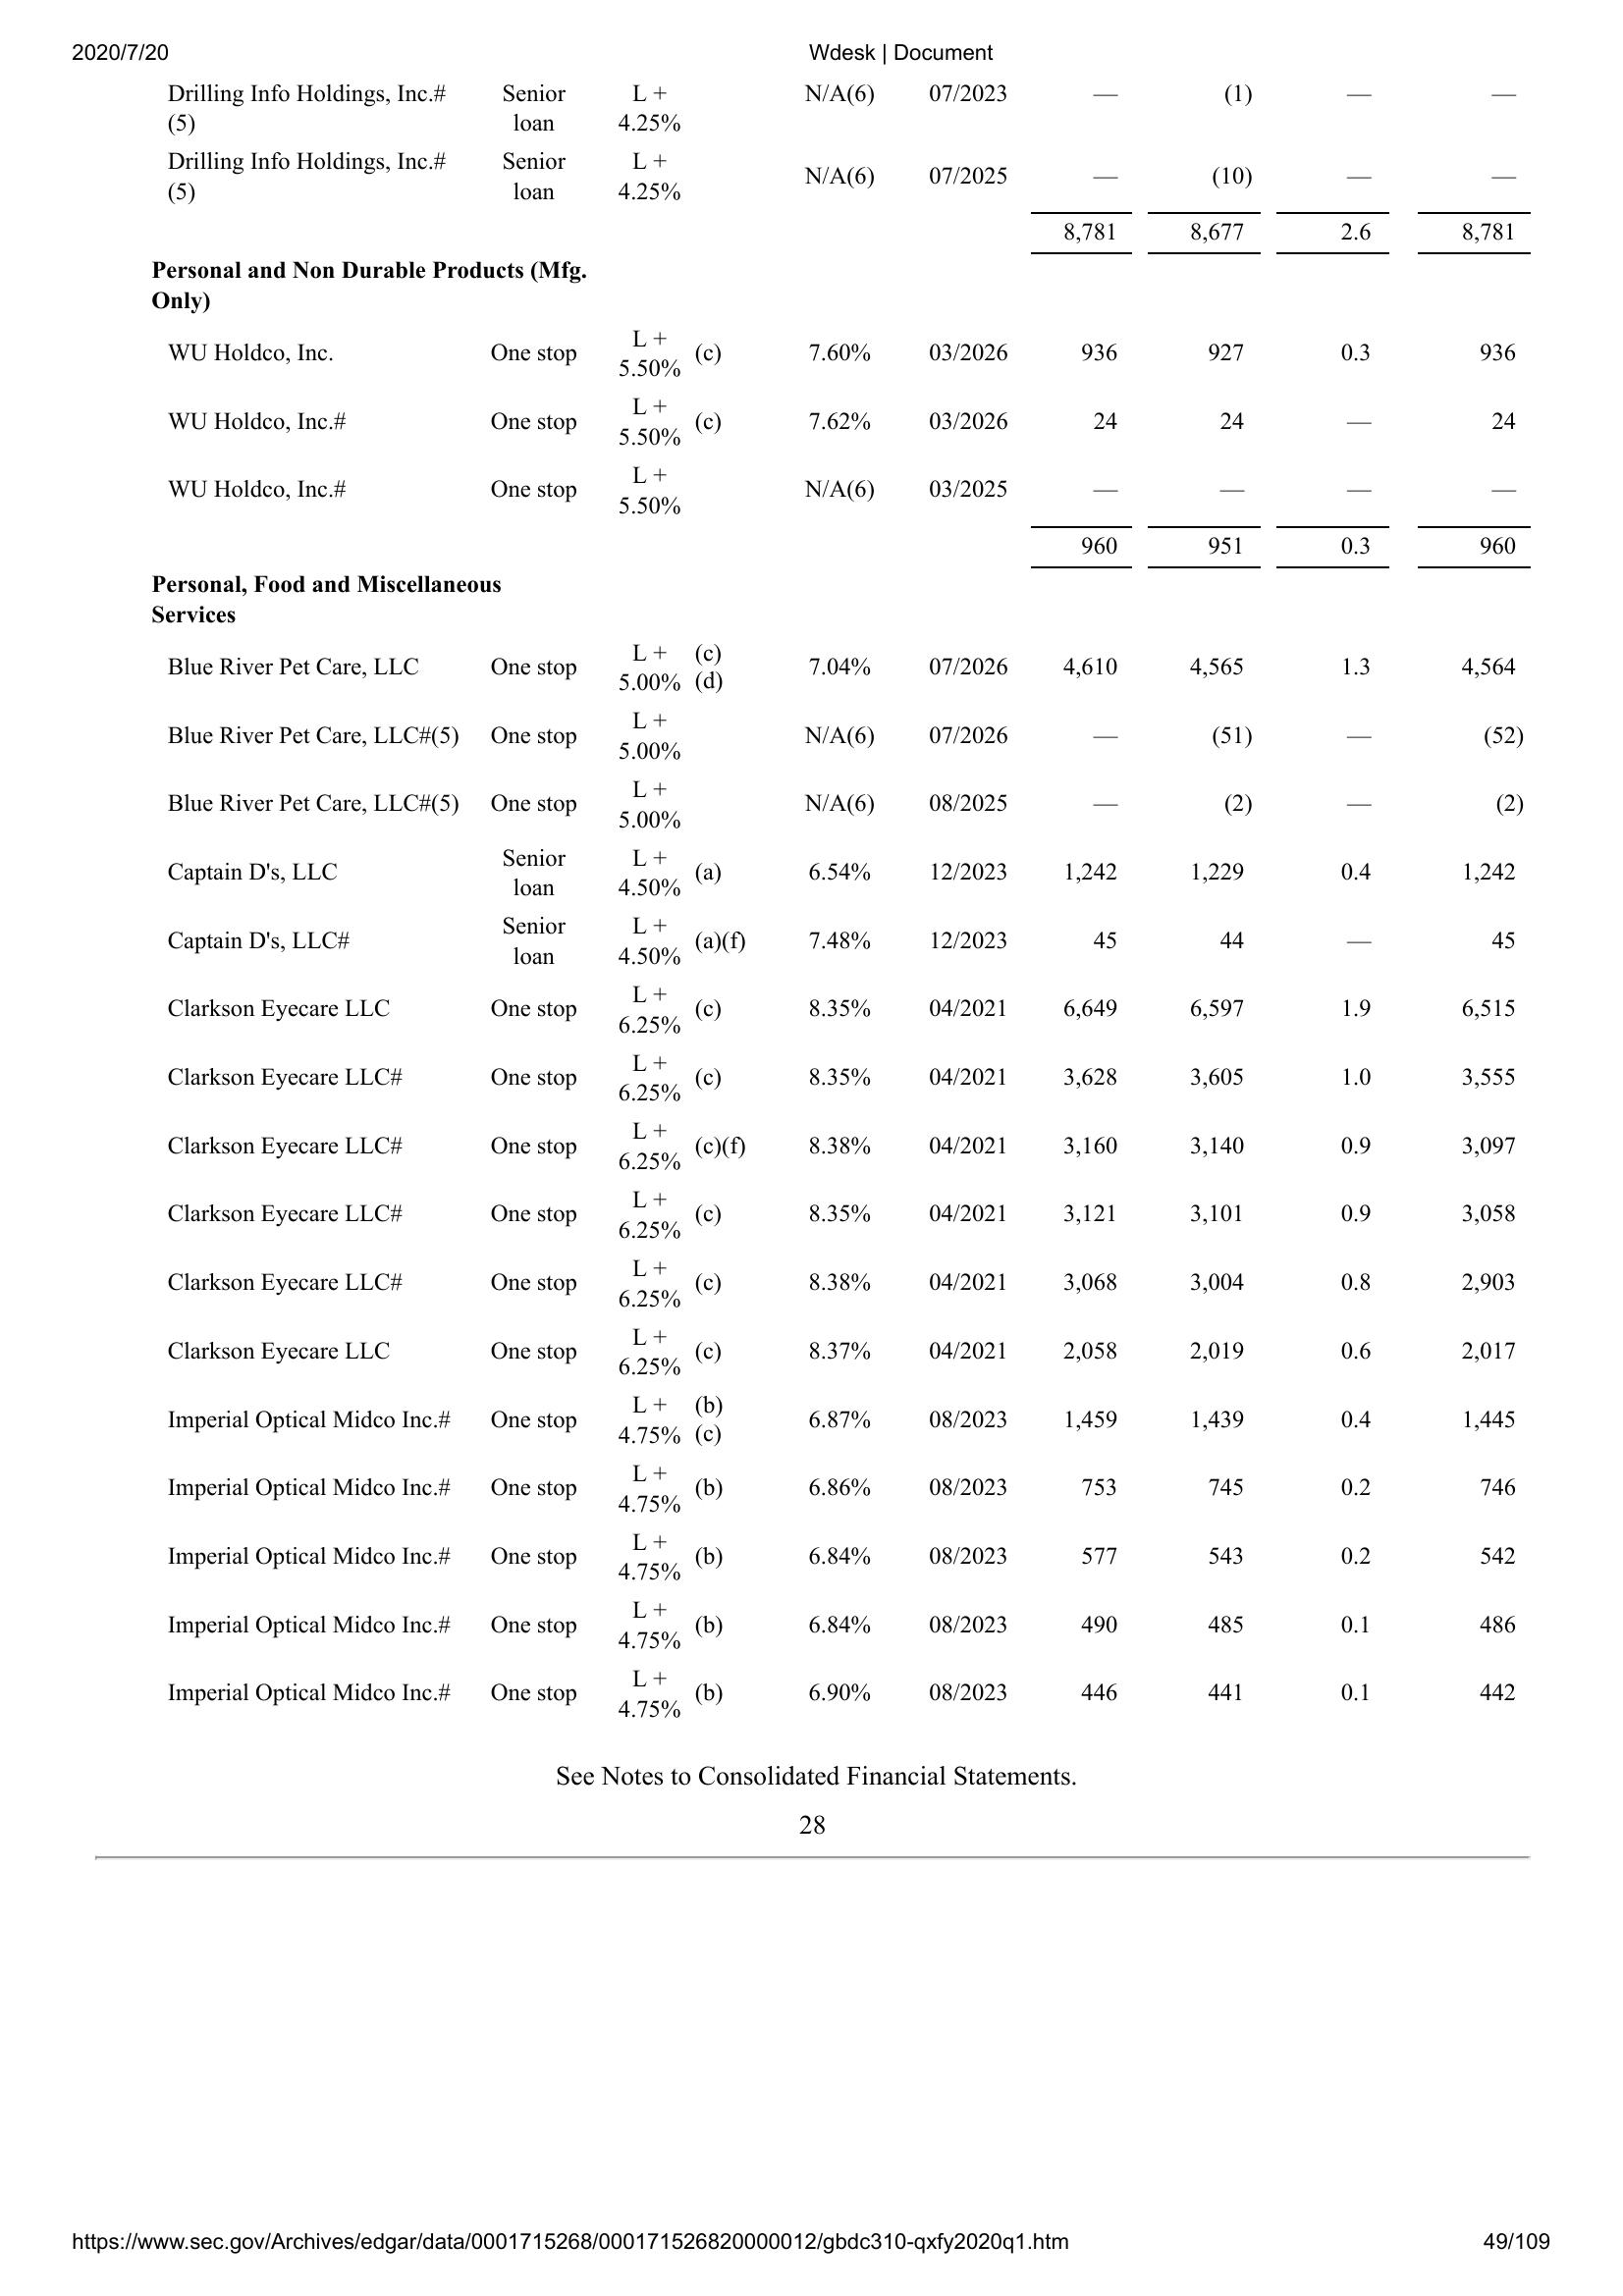table: (137, 65, 1530, 1718)
